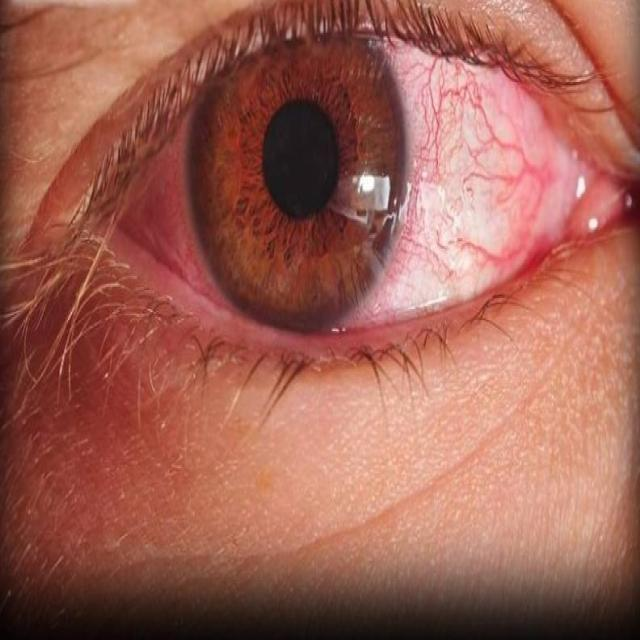Conjunctivitis: (97, 53, 640, 316)
